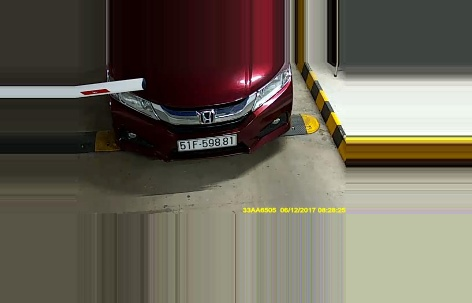plate: (177, 134, 238, 150)
